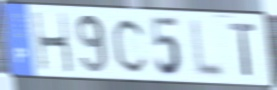5: (150, 16, 186, 80)
9: (74, 13, 109, 75)
C: (111, 16, 150, 75)
H: (31, 11, 75, 75)
L: (190, 17, 227, 81)
T: (228, 21, 258, 79)
